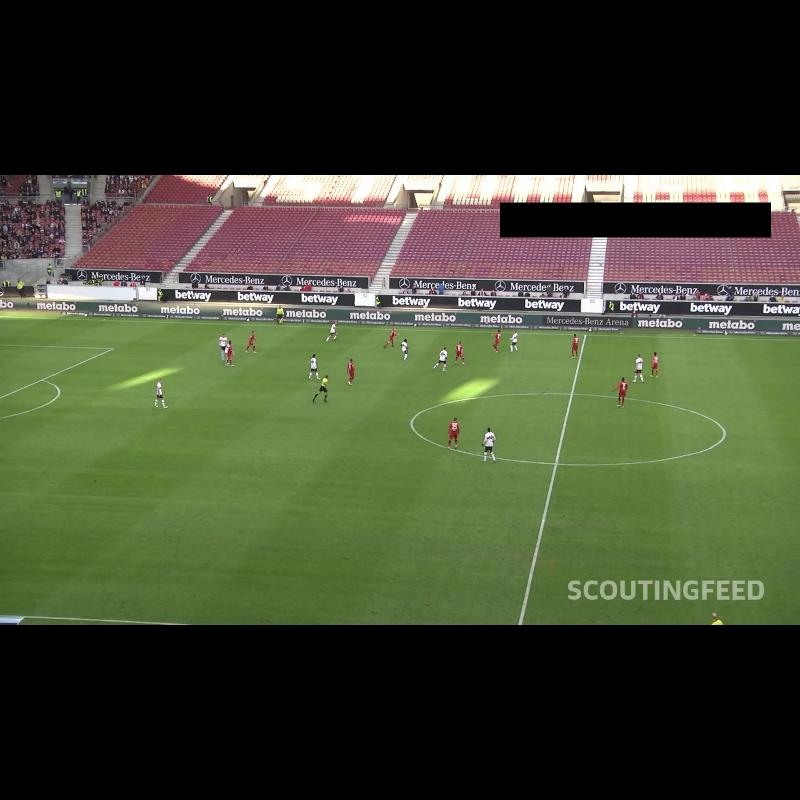cross_recipient_zone: (0, 344, 113, 398)
crossing_player_zone: (0, 316, 272, 354)
pitch: (0, 316, 800, 625)
